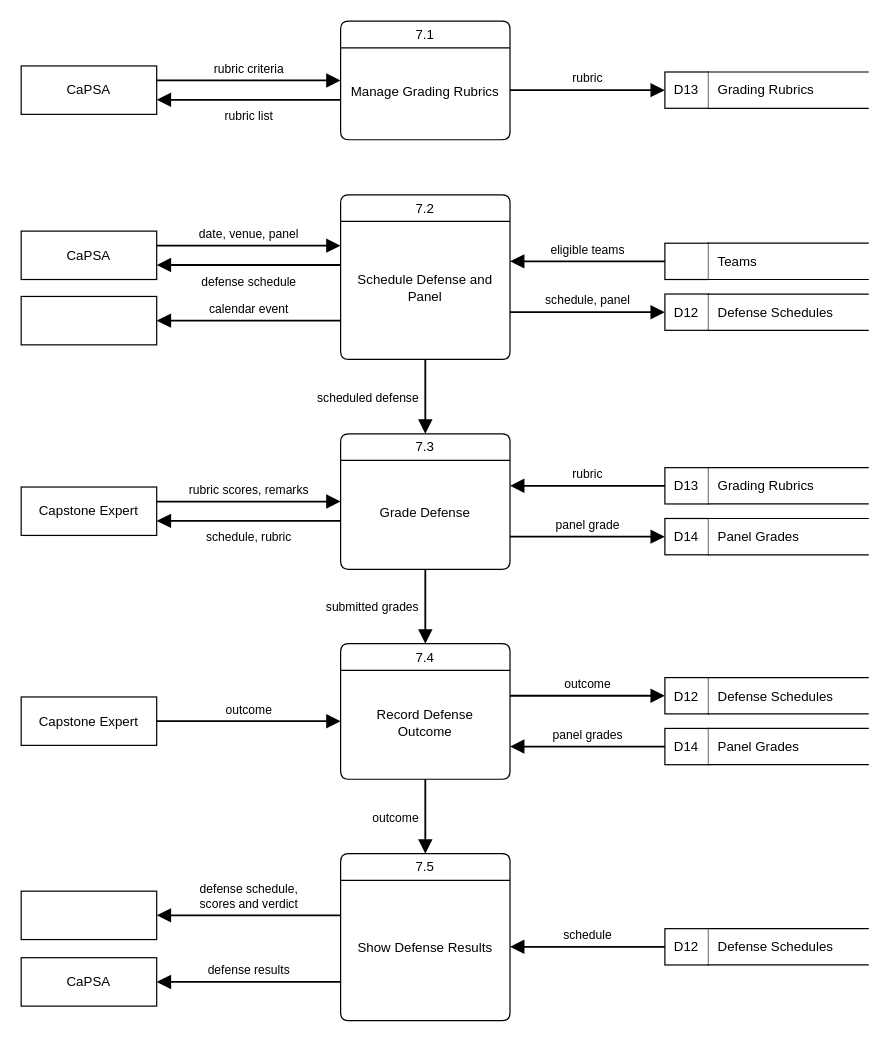
This 889x1042 diagram has some shape labels left out. Here are the shapes that lost their labels. From the top down, the centre of each, then its label:
[686,261]: D3
[88,320]: Google Services
[88,915]: Student
